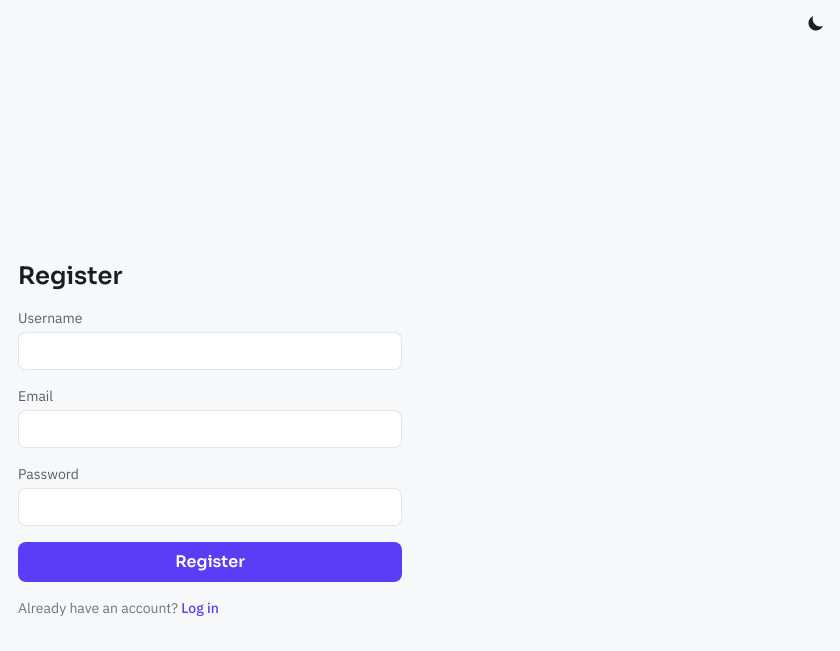
Test: RegisterPage › shows an error message when registration fails
In the field labelled "Username": point(210, 351) [18,332,402,370], type "alice"
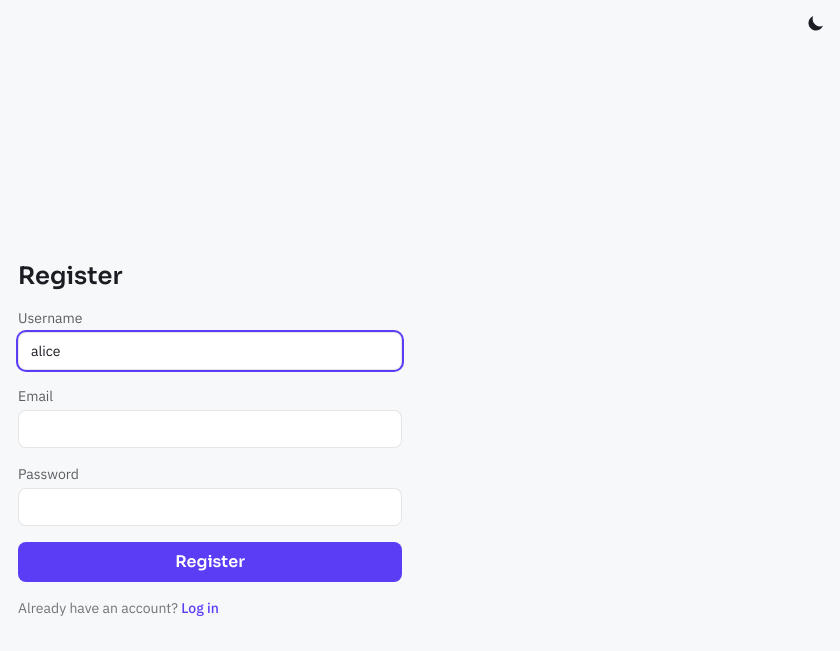
In the field labelled "Email": point(210, 429) [18,410,402,448], type "dupe@example.com"
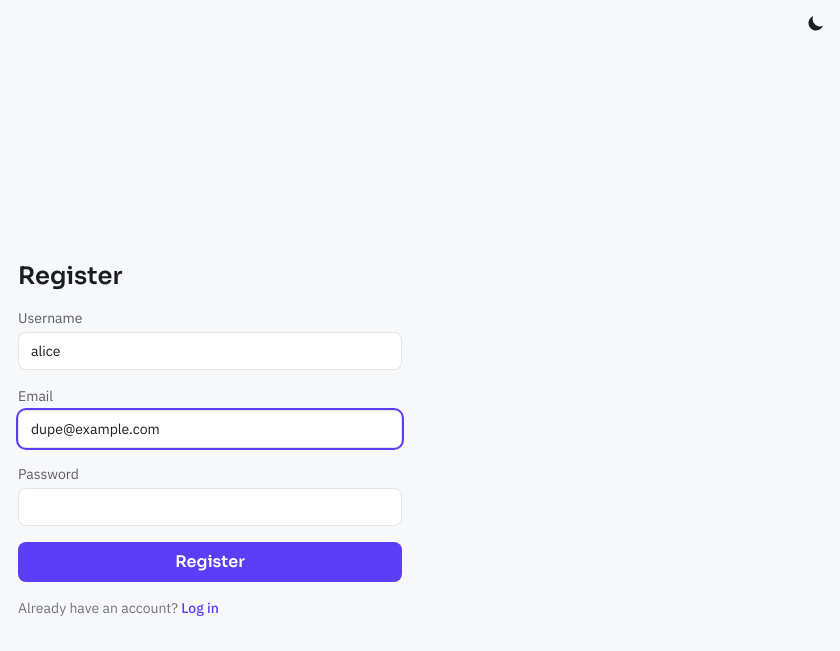
In the password field labelled "Password": point(210, 507) [18,488,402,526], type "password123"
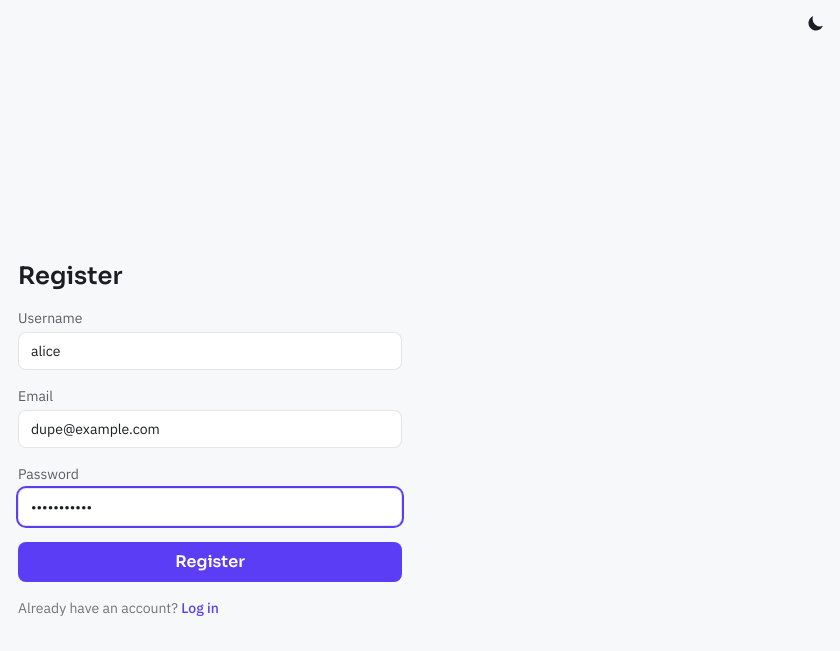
Click the button "Register": point(210, 562) [18,542,402,582]
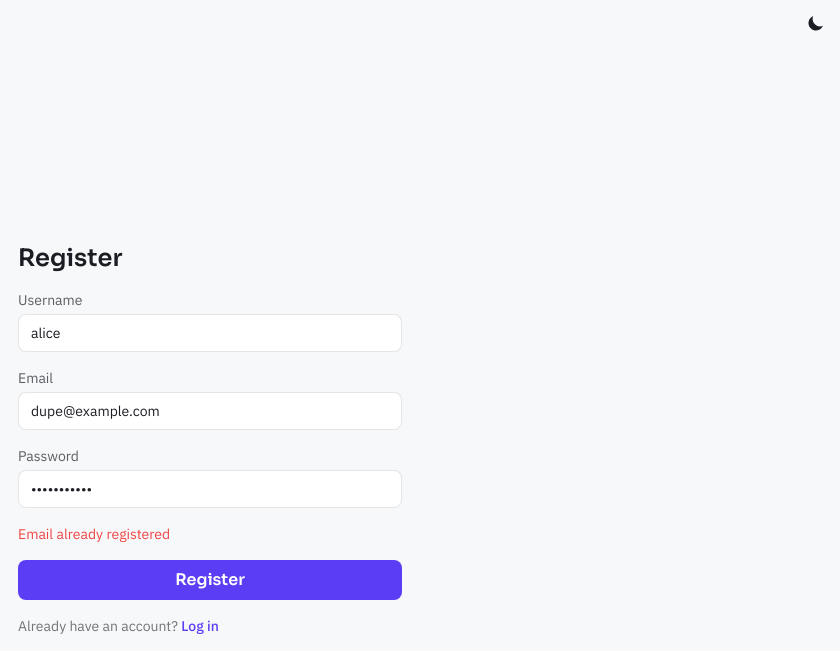
Result: the text "Email already registered" is shown at [18,525,170,543]
